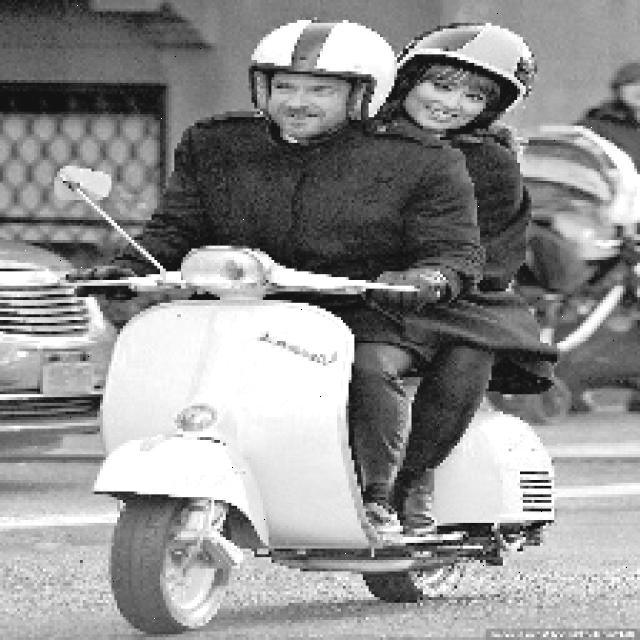Bike: (76, 259, 406, 612)
